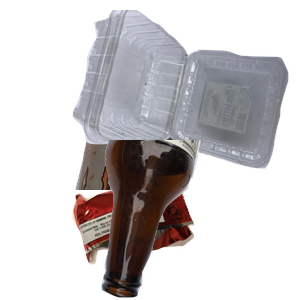glass: (99, 140, 300, 300)
metal: (73, 52, 263, 232)
plastic: (70, 10, 300, 171)
trash: (70, 162, 257, 300)
